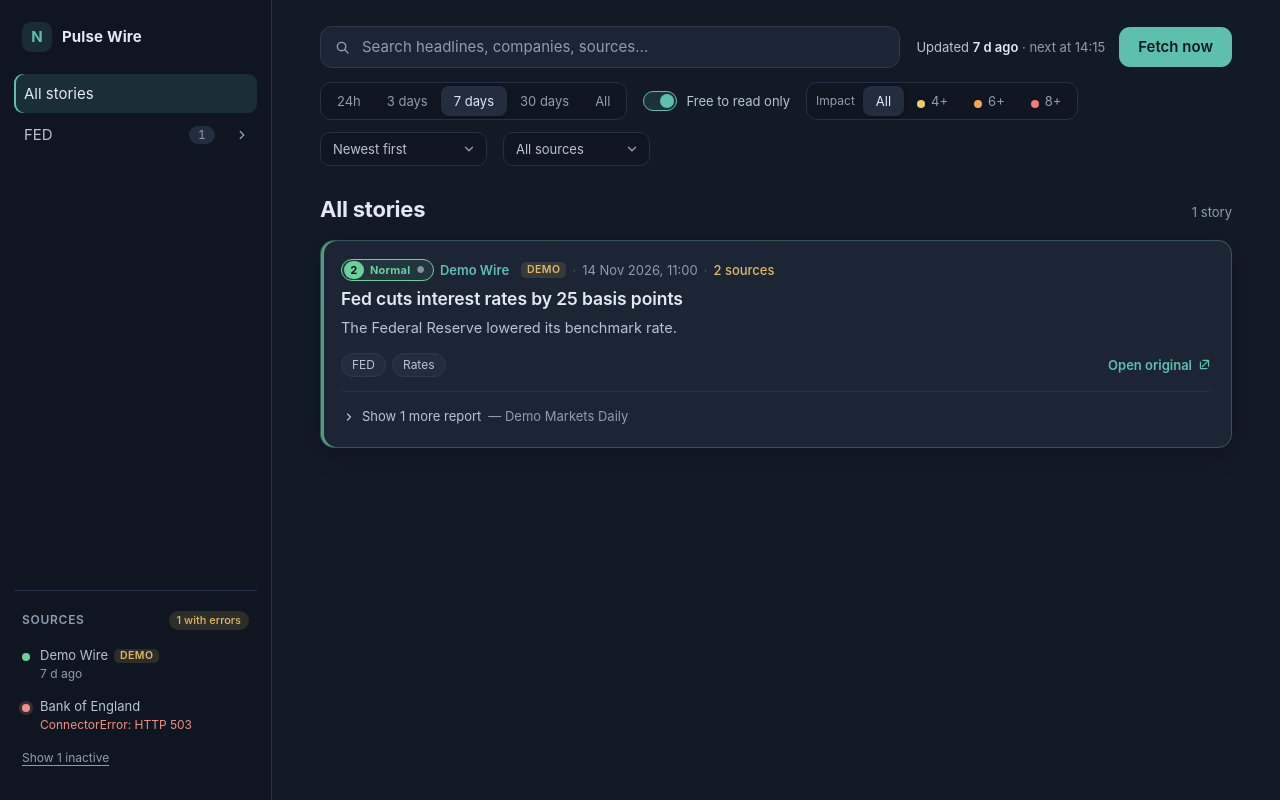
it: filters never hide stories invisibly (regression) › clicking a source in the sidebar shows details and does NOT filter
Expected: the heading "Fed cuts interest rates by 25 basis points" is shown, 341,288 -> 683,309
Click the button with aria-label "Demo Wire: Healthy" at point(136, 665), box 14,640 -> 257,690
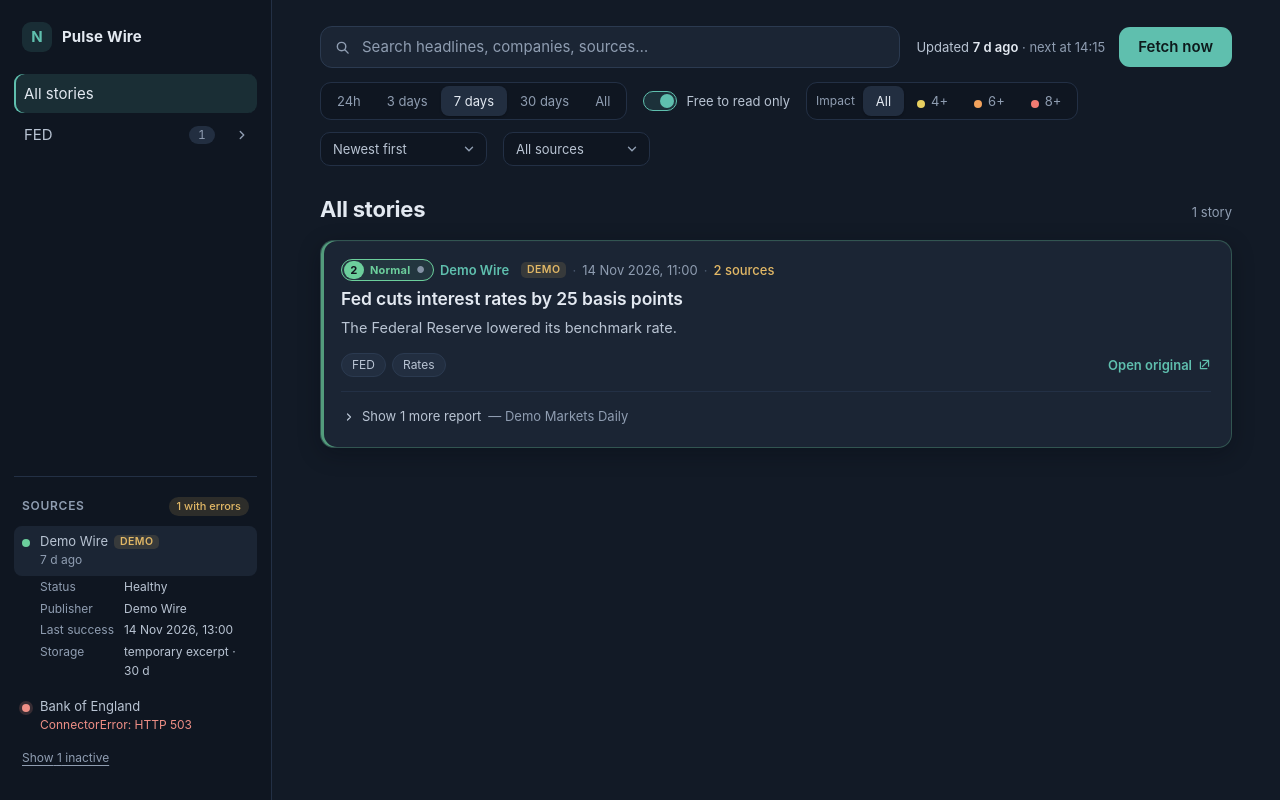
Result: the text "Last success" is shown at 40,622 -> 114,640
